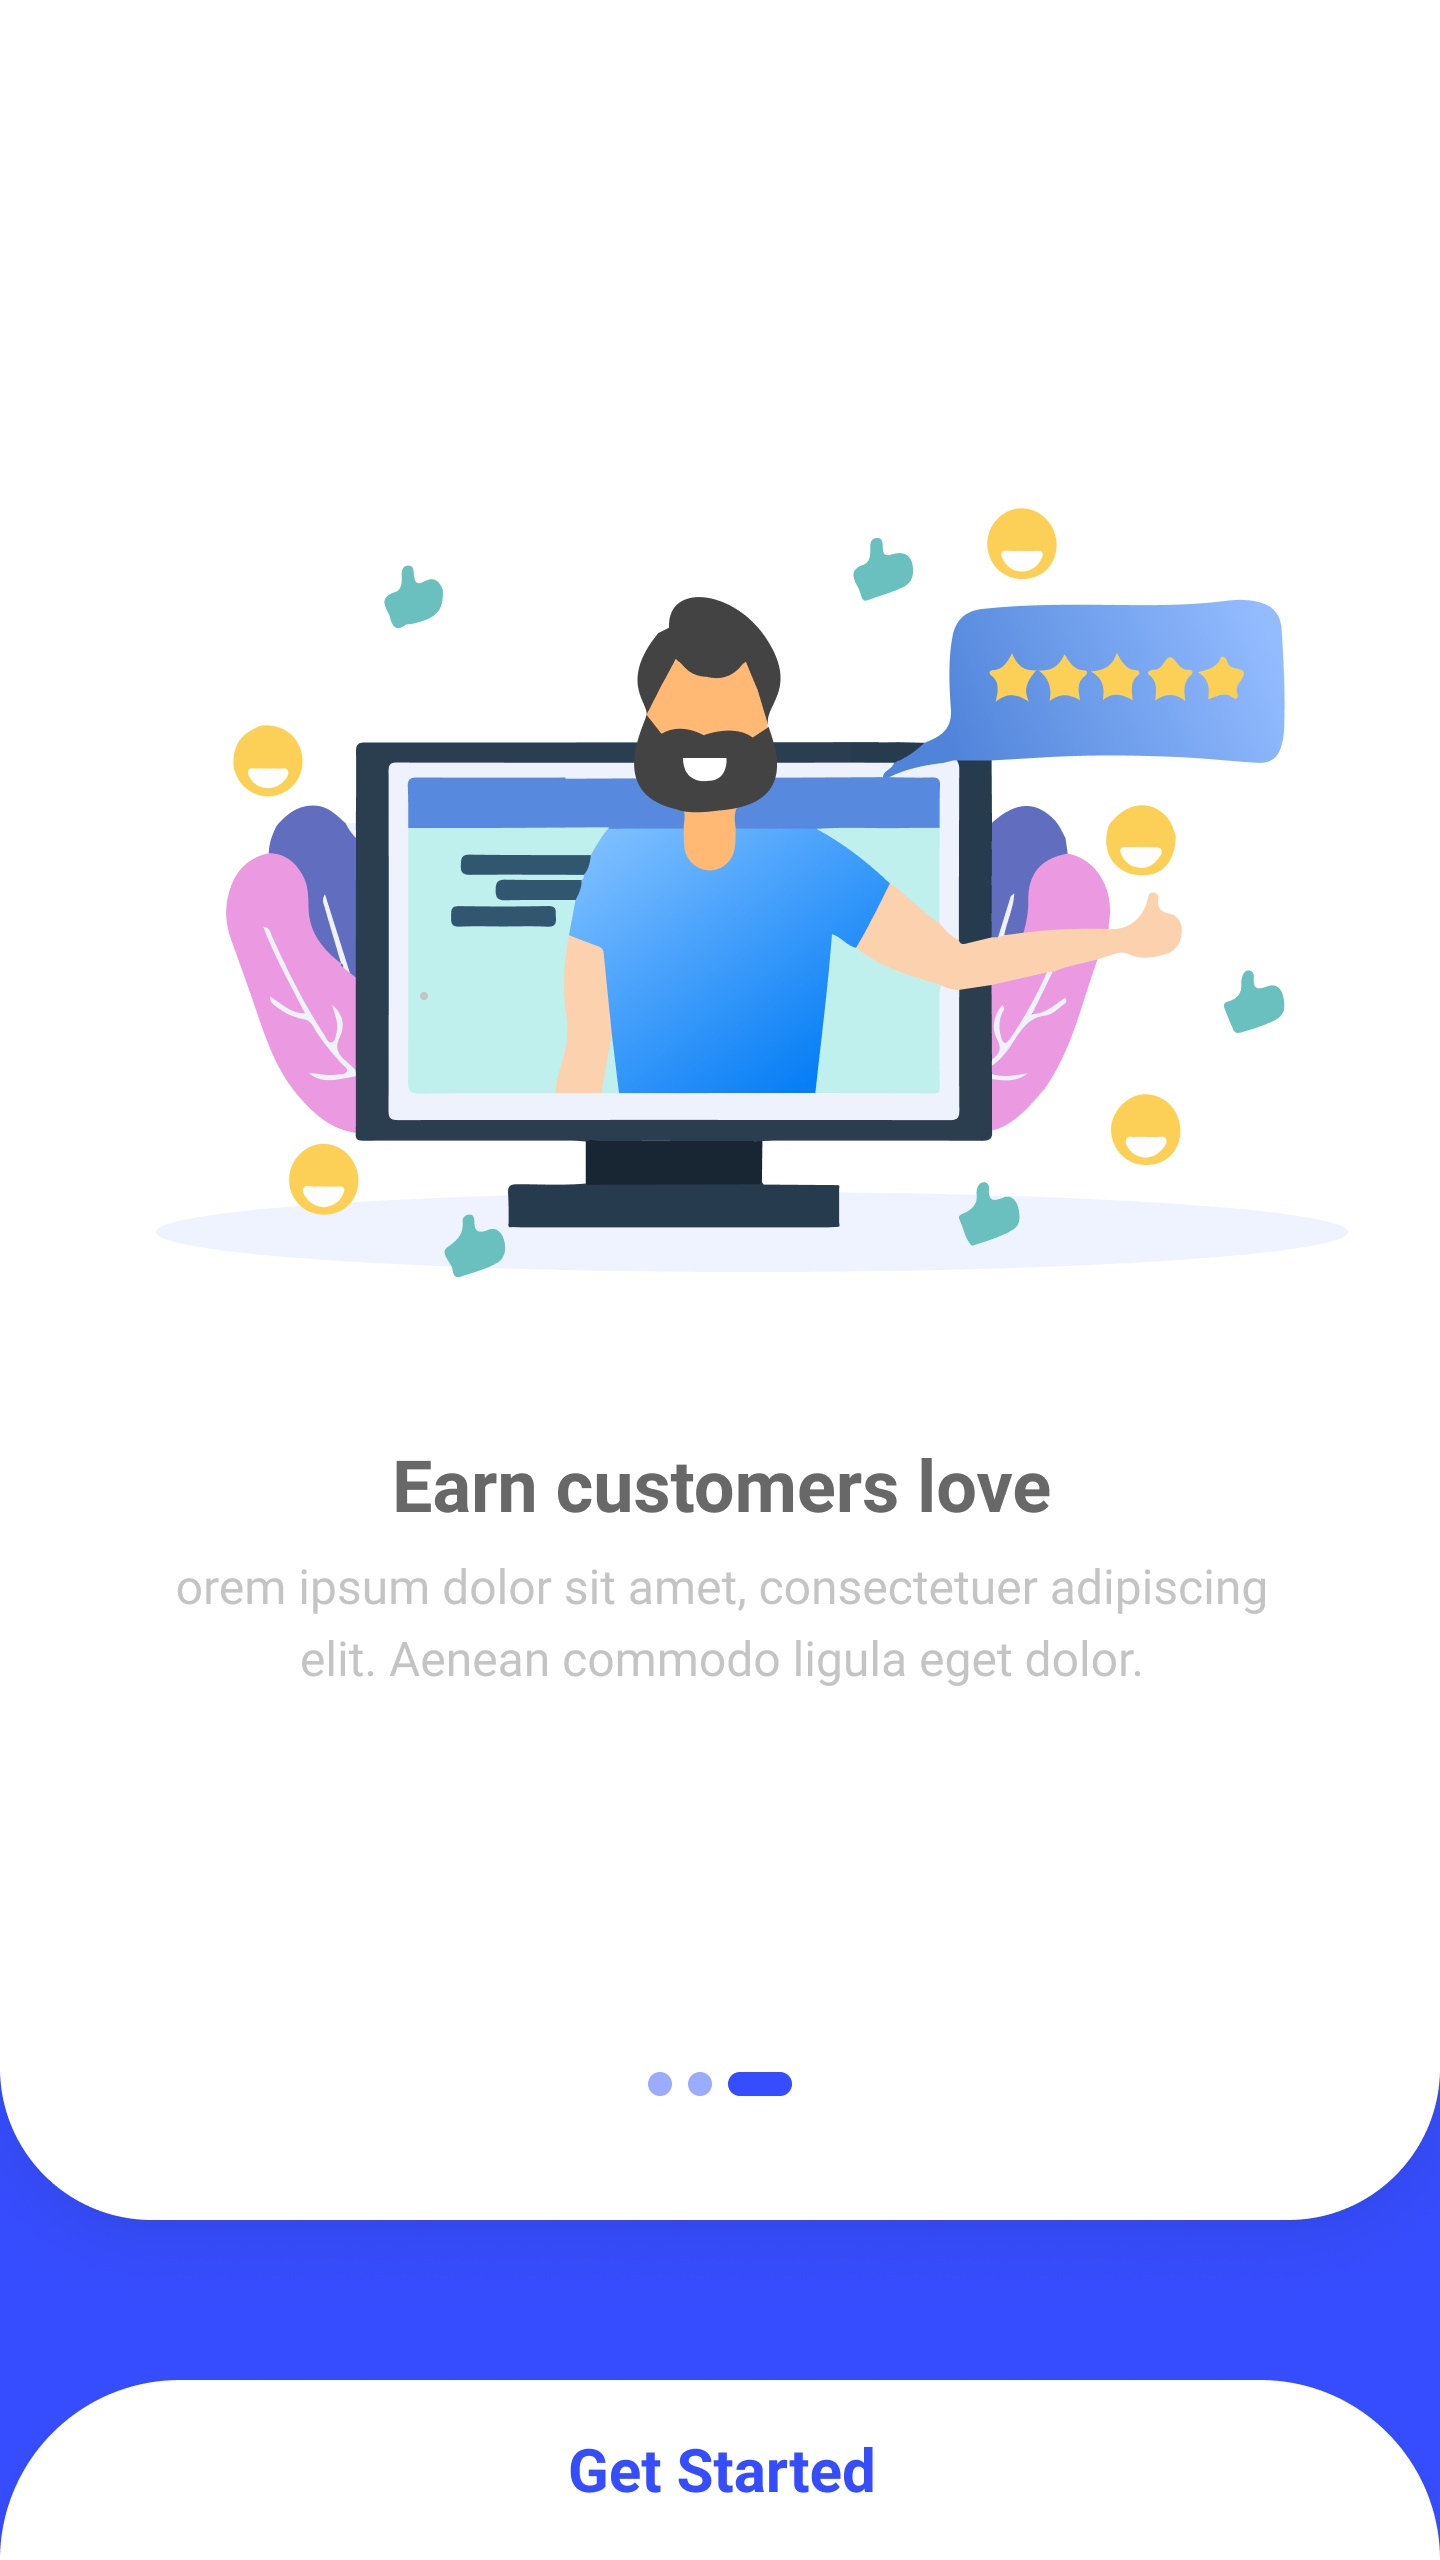Image: (155, 503, 1350, 1280)
PageIndicator: (647, 2071, 795, 2098)
Text: (178, 1567, 1266, 1690), (396, 1458, 1051, 1516)
TextButton: (2, 2379, 1440, 2560)
